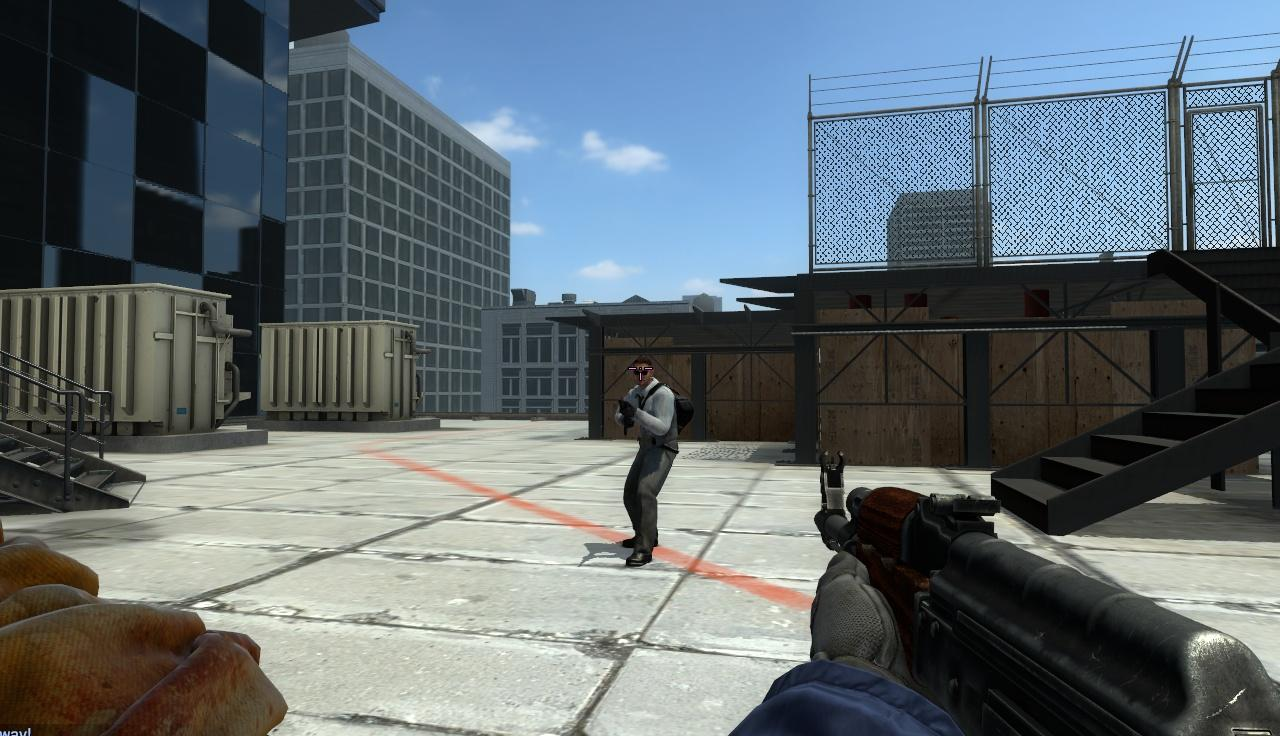rifle: (800, 445, 1280, 736)
tt: (615, 359, 679, 569)
tthead: (632, 360, 653, 385)
